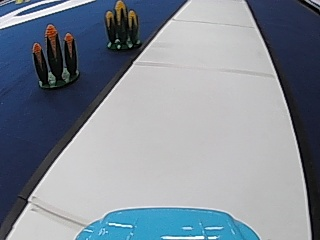corn: (31, 24, 81, 89), (102, 0, 141, 50)
